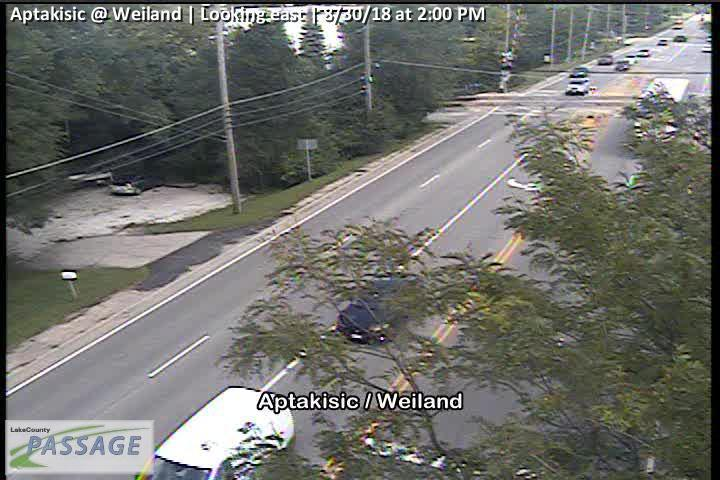Bus: (673, 20, 685, 29)
SUV: (129, 385, 295, 480), (565, 78, 590, 93)
Sedan: (337, 270, 423, 343), (569, 67, 587, 76), (615, 61, 630, 70), (597, 55, 612, 64), (674, 35, 688, 42), (637, 49, 649, 56), (657, 39, 668, 45)
Truck: (632, 77, 690, 149), (109, 173, 162, 194)
